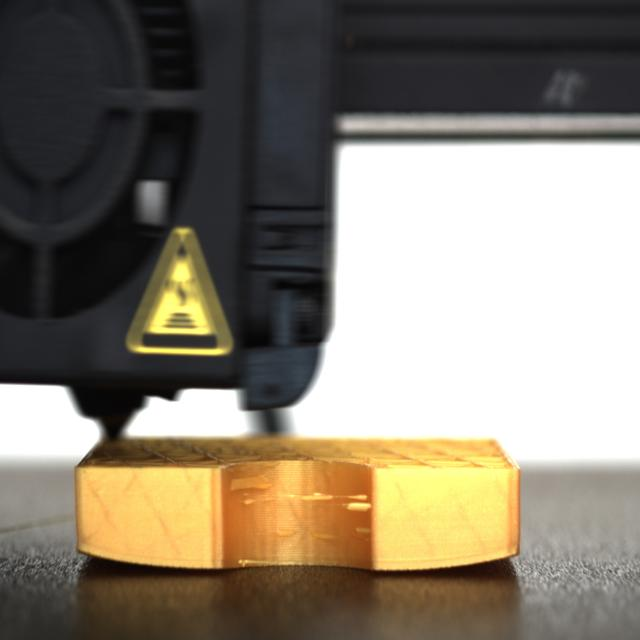Warping: (448, 543, 524, 578), (71, 540, 140, 574)
